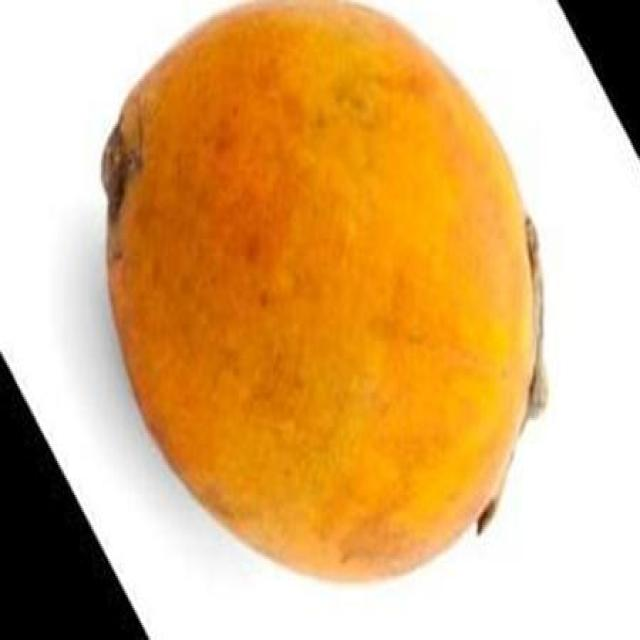good: (98, 0, 543, 582)
